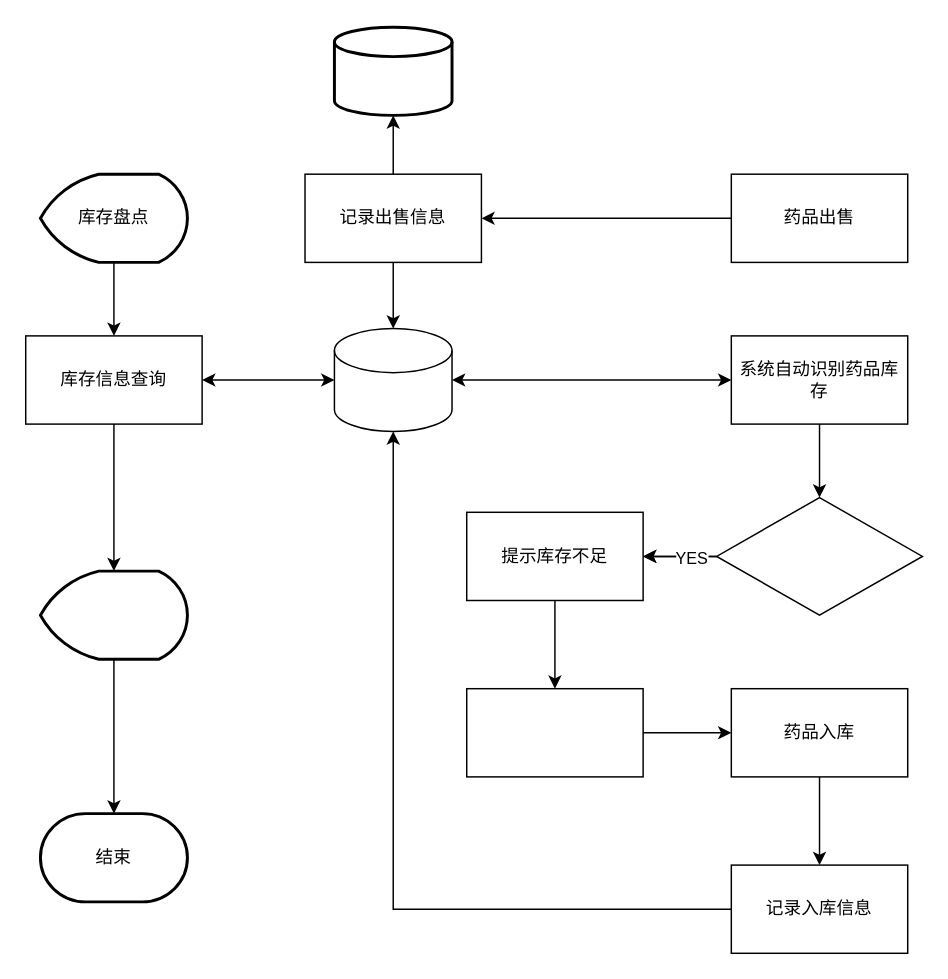
The diagram is 948 pixels wide and 979 high, and some of its shapes have lost their labels. Each missing label, with the centre of its shape:
库存信息表: [392,379]
库存量是否小于临界值: [818,555]
药品库存信息: [113,614]
采购药品: [554,732]
顾客信息表: [392,70]
